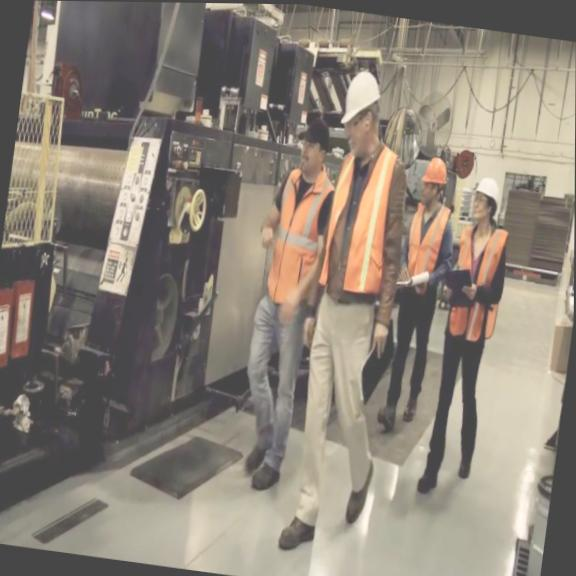safety_vest: (315, 130, 403, 297), (262, 156, 337, 312), (445, 218, 512, 342), (400, 198, 454, 282)
